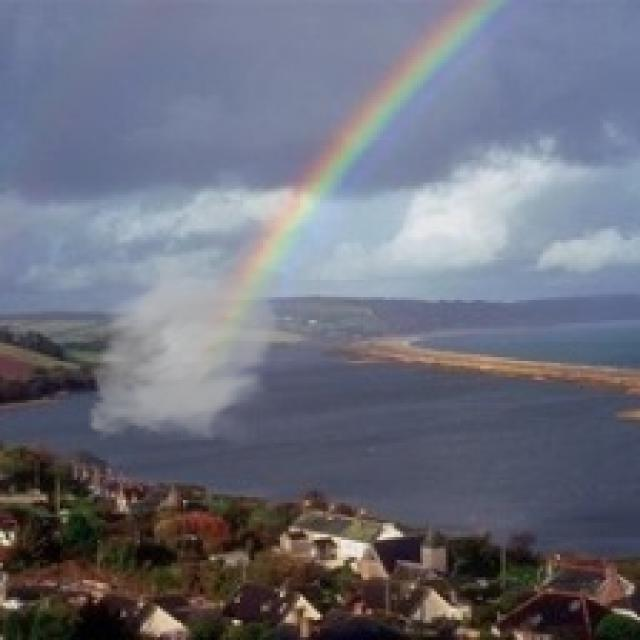smoke: (80, 252, 291, 454)
